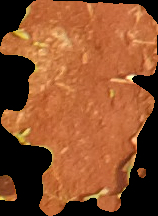soil: (1, 2, 155, 214)
